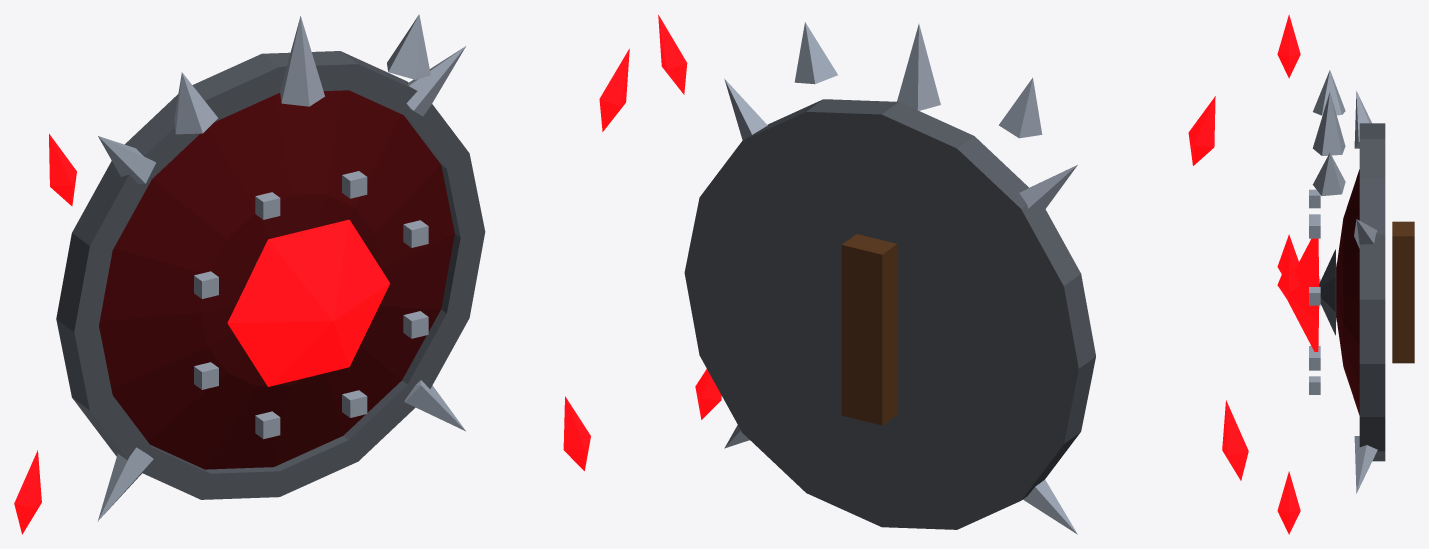
Rendered from shield_buckler_mythic.glb.
The picture shows the model from 3 angles, left to right: view 1: azimuth 30°, elevation 25°; view 2: azimuth 150°, elevation 25°; view 3: azimuth 270°, elevation 25°; orthographic projection. The views are drawn at different scales.
Parts seen in each view (by area): view 1: shield_buckler_mythic_export; view 2: shield_buckler_mythic_export; view 3: shield_buckler_mythic_export.
Boxes of the visible parts, x1=… form: shield_buckler_mythic_export: x1=14, y1=14, x2=629, y2=534; shield_buckler_mythic_export: x1=658, y1=15, x2=1248, y2=534; shield_buckler_mythic_export: x1=1277, y1=14, x2=1414, y2=534.
Bounding box in the file's own units: 86.86 × 67.07 × 23.5.
